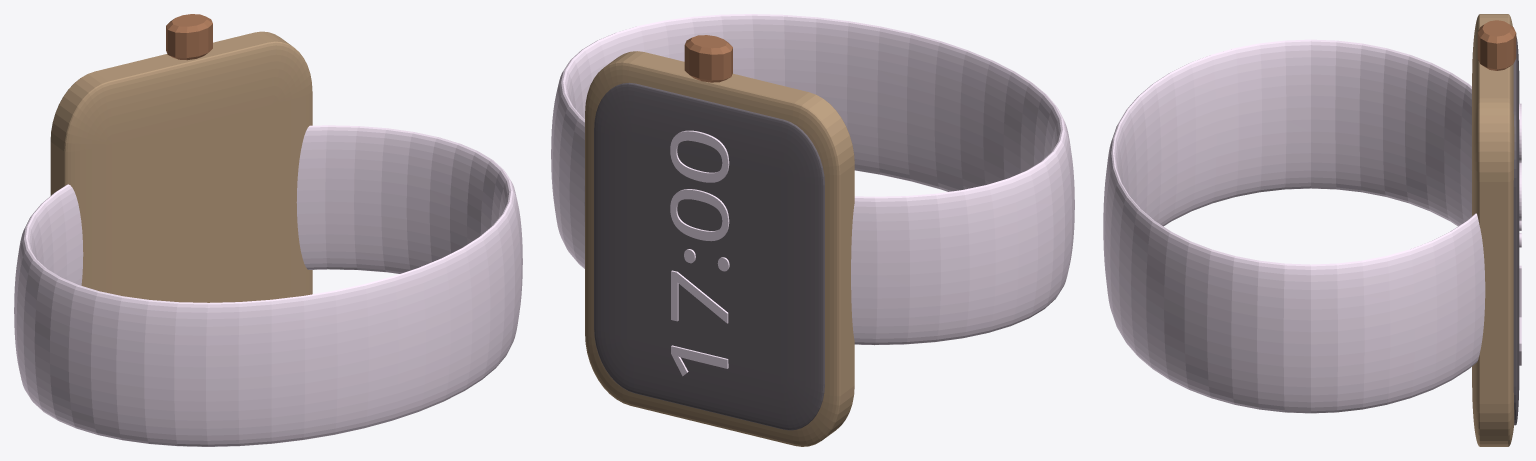
File: pulkstenis.glb
3 renders of one model, left to right at view 1: azimuth 30°, elevation 25°; view 2: azimuth 150°, elevation 25°; view 3: azimuth 270°, elevation 25°, orthographic. The views are drawn at different scales.
Visible parts, largest first — view 1: obj_3; view 2: obj_3; view 3: obj_3.
Part boxes in pixels (x1,y1,x2,y2): obj_3: (14, 14, 522, 446); obj_3: (551, 14, 1074, 446); obj_3: (1103, 14, 1521, 446).
Size of the model in its own units: 0.2 by 0.15 by 0.15.
